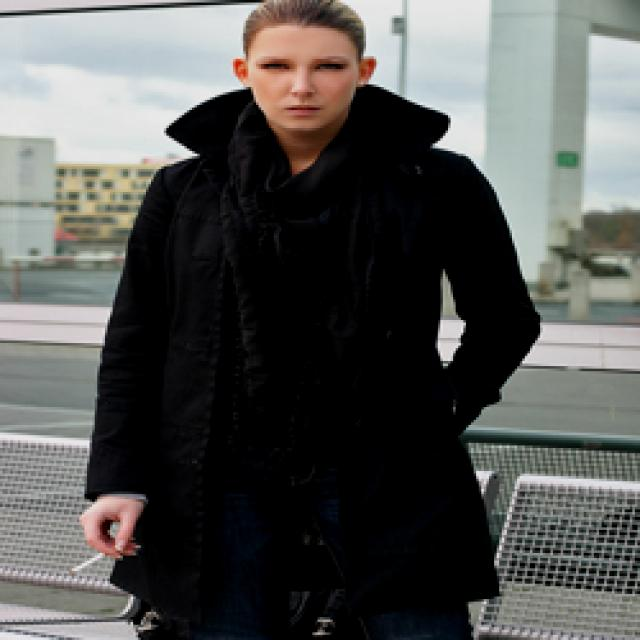Smooking: (58, 550, 114, 582)
